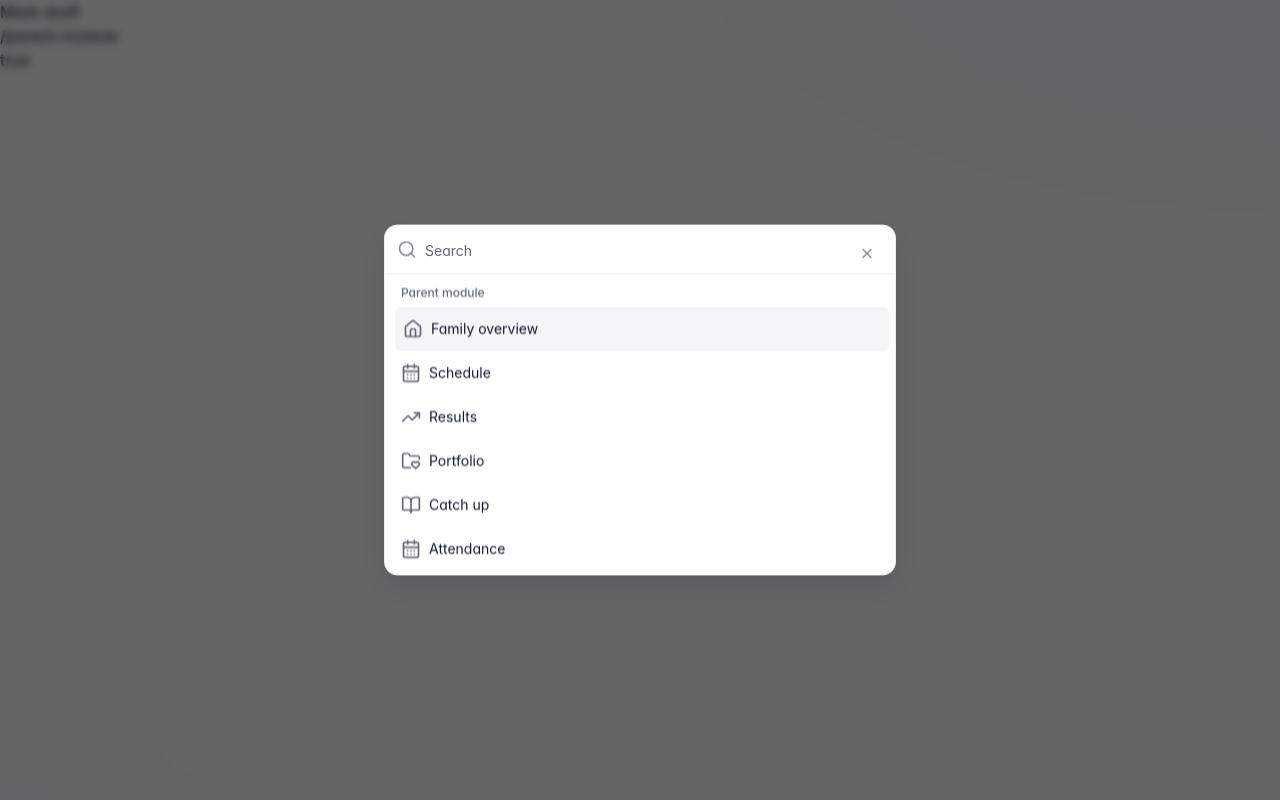
Scenario: keeps parent search away from student courses and staff search even with a staff cookie
Type "Visual" into the dropdown at (654,250), box [425,226,883,274]
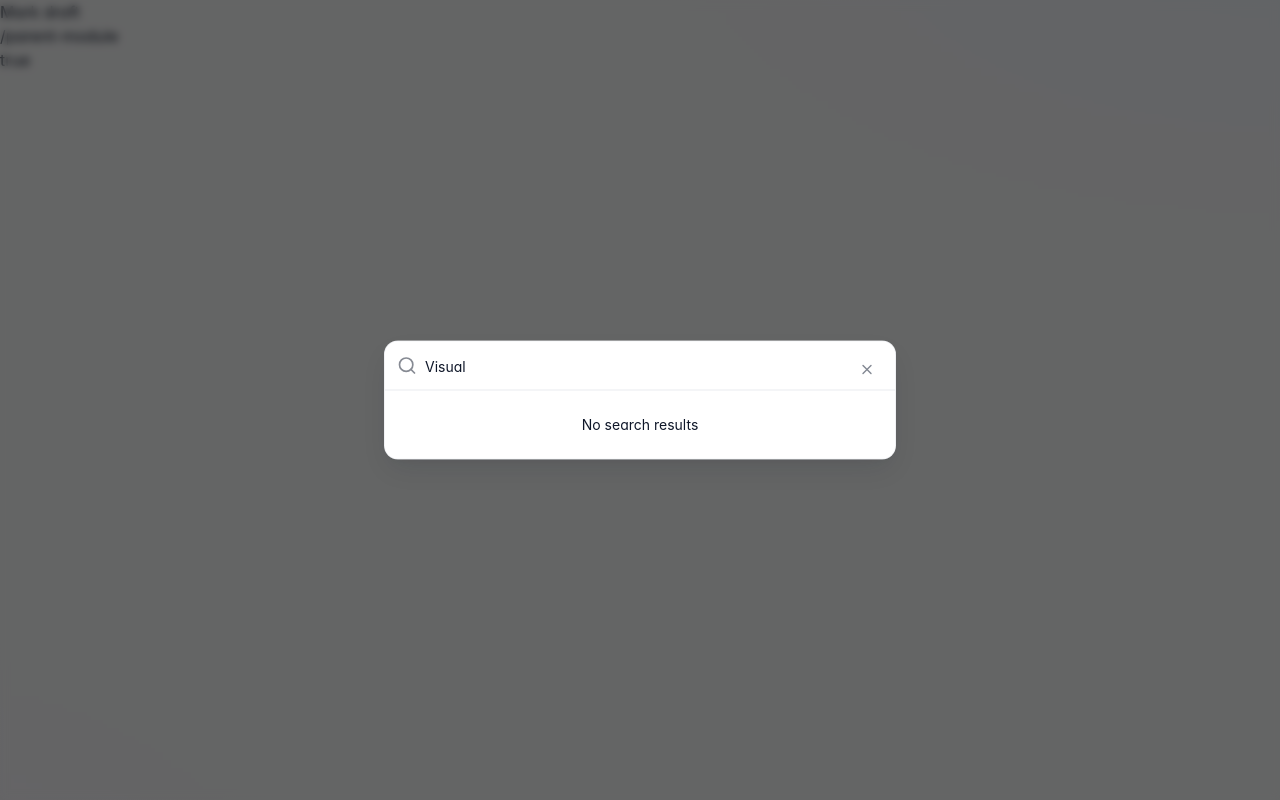
Now the text "No search results" is shown, box [582,416,698,432]
